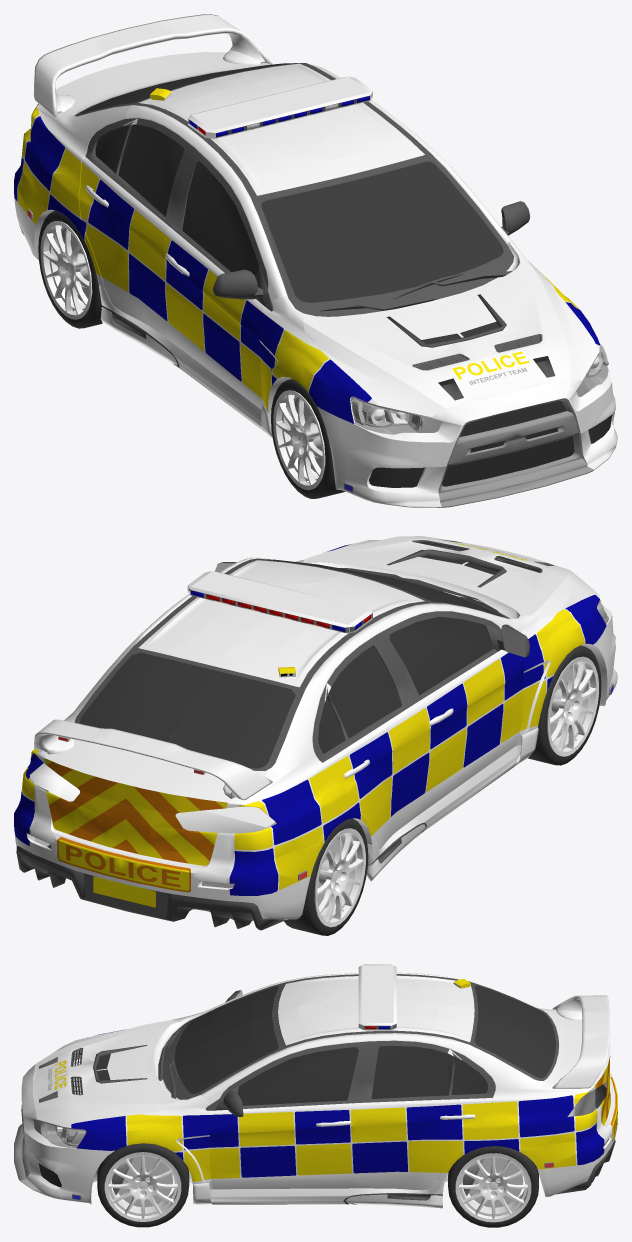
Rendered from mitsubishi__lancer-evolution.glb.
3 views of the same model, one above another, from view 1: azimuth 30°, elevation 25°; view 2: azimuth 150°, elevation 25°; view 3: azimuth 270°, elevation 25° (orthographic). The views are drawn at different scales.
Visible parts, largest first — view 1: Material2 (×63); view 2: Material2 (×72); view 3: Material2 (×65).
Boxes of the visible parts, x1,y1,x2,y2 form: Material2 (×63): (18, 14, 617, 507); Material2 (×72): (14, 536, 617, 935); Material2 (×65): (14, 964, 617, 1227).
Size of what is drawn, in the model's own units: 78.72 by 58.45 by 174.
